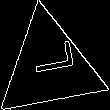L_W: (23, 47, 76, 86)
